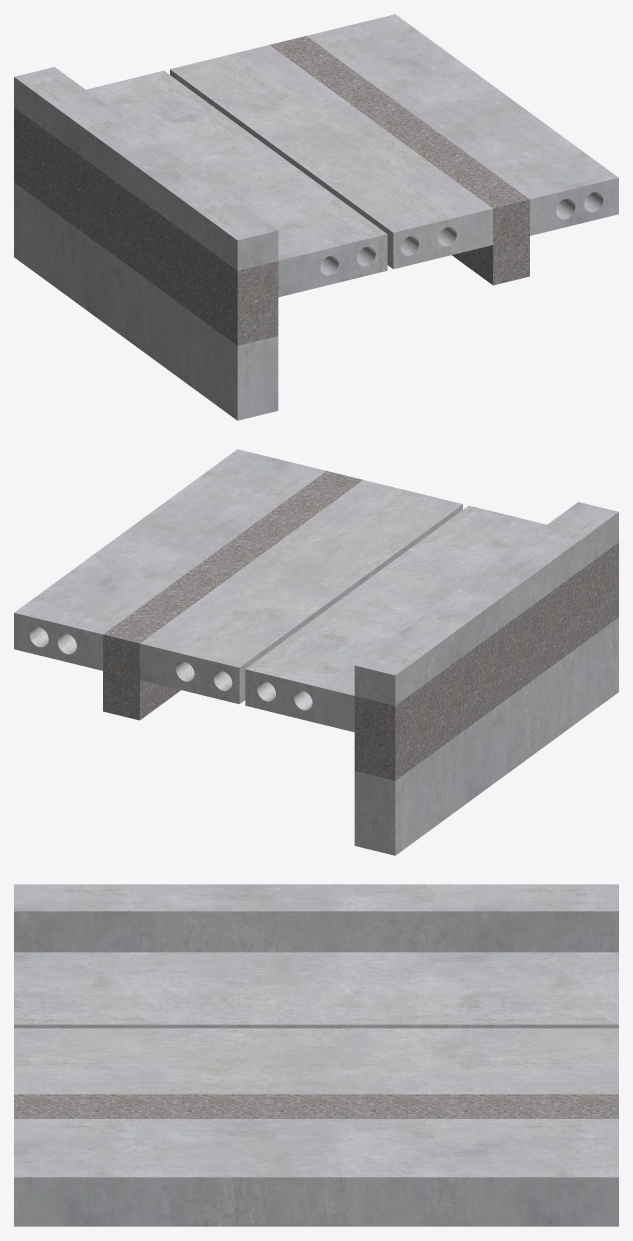
File: hollow.glb
3 views of the same model, one above another, from view 1: azimuth 30°, elevation 25°; view 2: azimuth 150°, elevation 25°; view 3: azimuth 270°, elevation 25° (orthographic). The views are drawn at different scales.
Visible parts, largest first — view 1: 空心板, 墙, 墙内梁, 中梁; view 2: 空心板, 墙, 墙内梁, 中梁; view 3: 空心板, 墙, 中梁.
Boxes of the visible parts, bbox=[...] form: 空心板: bbox=[86, 14, 618, 297]; 墙: bbox=[14, 67, 278, 420]; 墙内梁: bbox=[14, 107, 278, 345]; 中梁: bbox=[270, 36, 529, 285]; 空心板: bbox=[14, 449, 546, 732]; 墙: bbox=[354, 502, 618, 855]; 墙内梁: bbox=[354, 542, 618, 780]; 中梁: bbox=[103, 471, 362, 720]; 空心板: bbox=[14, 952, 618, 1226]; 墙: bbox=[14, 884, 618, 952]; 中梁: bbox=[14, 1094, 618, 1118].
Bounding box in the file's own units: 1.97 × 0.8899 × 2.
Materials: 4 (4 with a texture image).
